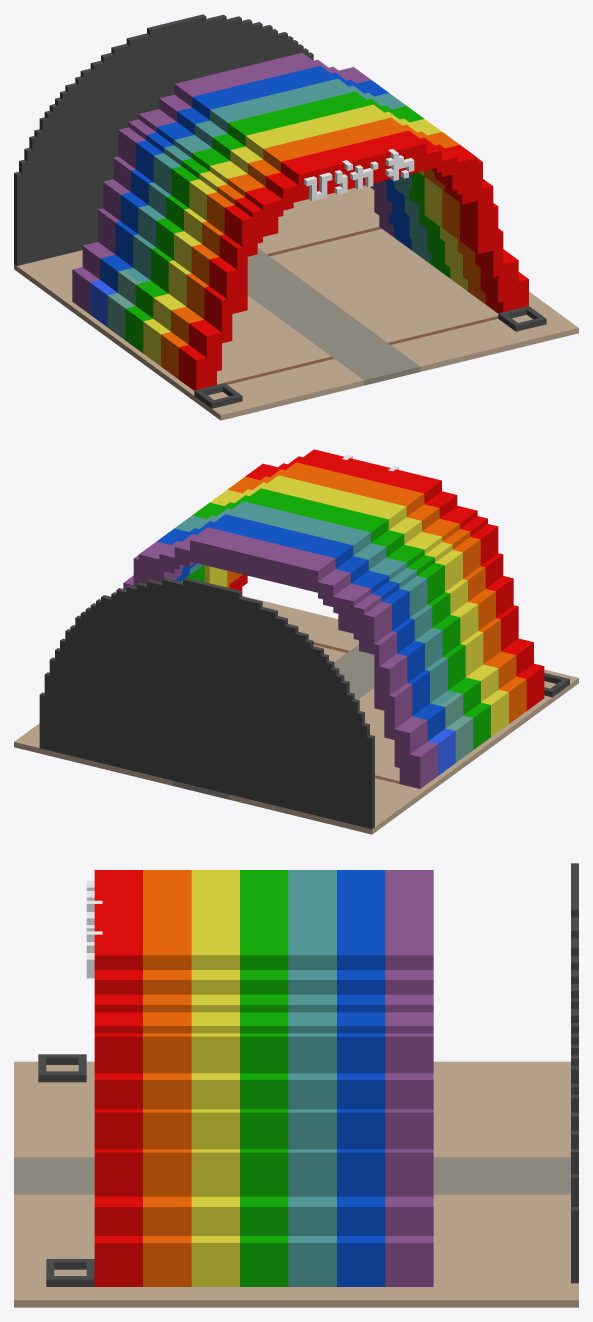
File: hirakawadoubutuen.glb
3 views of the same model, one above another, from view 1: azimuth 30°, elevation 25°; view 2: azimuth 150°, elevation 25°; view 3: azimuth 270°, elevation 25° (orthographic). The views are drawn at different scales.
Visible parts, largest first — view 1: Untitled; view 2: Untitled; view 3: Untitled.
Part boxes in pixels (x1,y1,x2,y2): Untitled: [14, 14, 578, 420]; Untitled: [14, 449, 578, 834]; Untitled: [14, 863, 578, 1307].
Size of the model in its own units: 7 by 3.9 by 7.
1 material, 1 textured.
